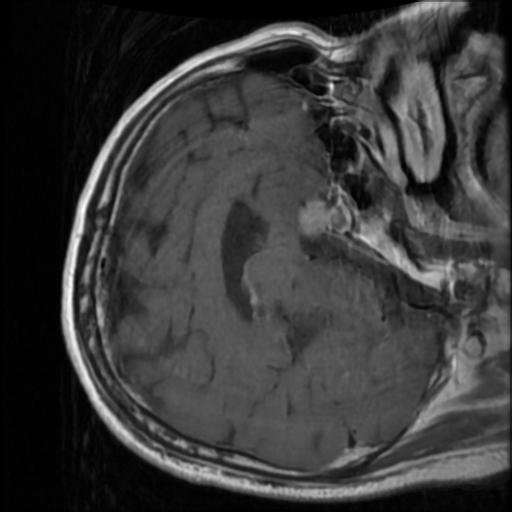pituitary tumour: (297, 201, 349, 234)
